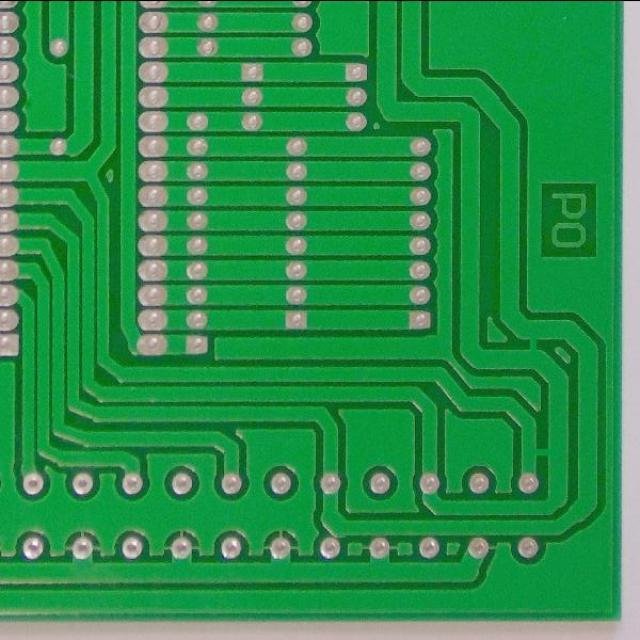short: (516, 432, 566, 477), (511, 326, 554, 367)
